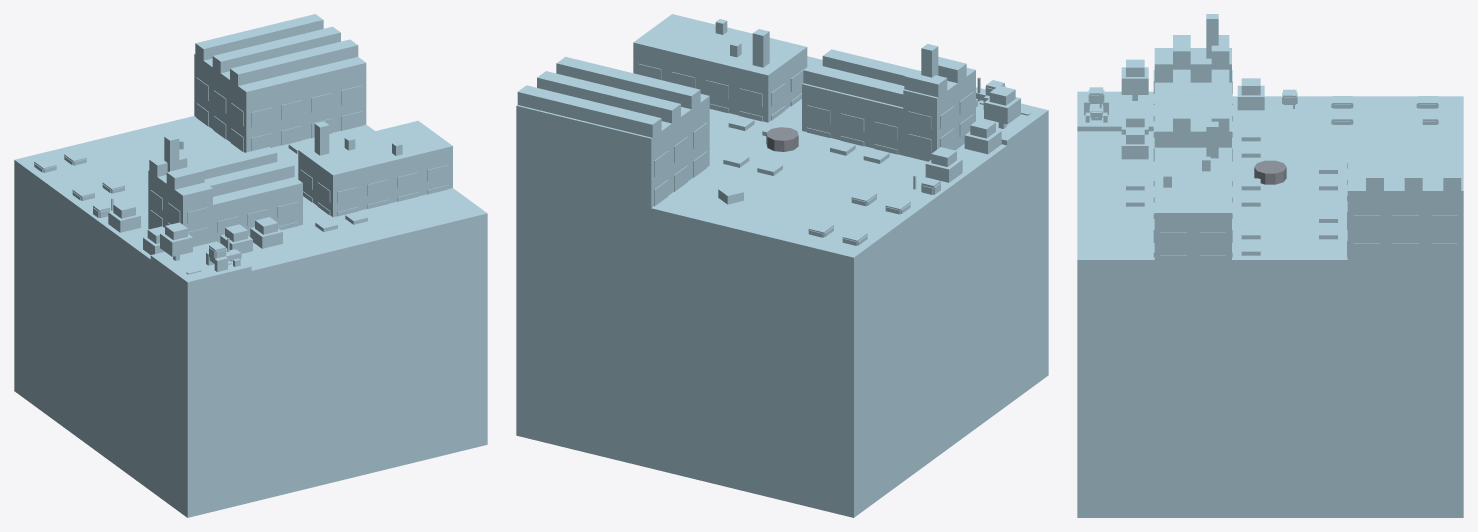
The model's file is block_13_undergroundtanks_100.glb.
3 renders of one model, left to right at view 1: azimuth 30°, elevation 25°; view 2: azimuth 150°, elevation 25°; view 3: azimuth 270°, elevation 25°, orthographic. The views are drawn at different scales.
Visible parts, largest first — view 1: Patch_LowerLeft_b13_UT, Factories_LowerLeft_b13_UT, Roads_LowerLeft_b13_UT, Ground_LowerLeft_b13_UT, Asset_Tree_Round.111_UT, Asset_Tree_Round.093_UT, Asset_Tree_Round.113_UT, Asset_Tractor.006_UT, Asset_Tree_Round.112_UT; view 2: Patch_LowerLeft_b13_UT, Factories_LowerLeft_b13_UT, Parking_LowerLeft_b13_UT, Asset_Tree_Round.111_UT, Ground_LowerLeft_b13_UT, Asset_Tree_Round.105_UT, Asset_Tree_Round.093_UT, UT_TankUnit_13, Roads_LowerLeft_b13_UT; view 3: Patch_LowerLeft_b13_UT, Factories_LowerLeft_b13_UT, Ground_LowerLeft_b13_UT, Roads_LowerLeft_b13_UT, Asset_Tree_Round.111_UT, Asset_Tree_Round.093_UT, Asset_Tree_Round.113_UT, Asset_Tractor.006_UT, UT_TankUnit_13, Asset_Tree_Round.112_UT.
Part boxes in pixels (x1,y1,x2,y2): Patch_LowerLeft_b13_UT: (14, 116, 487, 517); Factories_LowerLeft_b13_UT: (148, 14, 452, 246); Roads_LowerLeft_b13_UT: (83, 223, 487, 290); Ground_LowerLeft_b13_UT: (101, 236, 227, 276); Asset_Tree_Round.111_UT: (160, 222, 192, 260); Asset_Tree_Round.093_UT: (108, 201, 140, 232); Asset_Tree_Round.113_UT: (250, 217, 282, 248); Asset_Tractor.006_UT: (206, 238, 241, 271); Asset_Tree_Round.112_UT: (220, 224, 252, 253); Patch_LowerLeft_b13_UT: (516, 56, 1048, 517); Factories_LowerLeft_b13_UT: (516, 14, 975, 248); Parking_LowerLeft_b13_UT: (718, 215, 931, 278); Asset_Tree_Round.111_UT: (984, 85, 1020, 128); Ground_LowerLeft_b13_UT: (651, 111, 1029, 261); Asset_Tree_Round.105_UT: (964, 118, 1001, 154); Asset_Tree_Round.093_UT: (925, 147, 962, 182); UT_TankUnit_13: (766, 127, 798, 151); Roads_LowerLeft_b13_UT: (931, 100, 1048, 218); Patch_LowerLeft_b13_UT: (1077, 96, 1463, 517); Factories_LowerLeft_b13_UT: (1153, 14, 1463, 300); Ground_LowerLeft_b13_UT: (1116, 91, 1347, 315); Roads_LowerLeft_b13_UT: (1077, 91, 1308, 315); Asset_Tree_Round.111_UT: (1121, 59, 1148, 100); Asset_Tree_Round.093_UT: (1237, 78, 1264, 110); Asset_Tree_Round.113_UT: (1121, 127, 1148, 159); Asset_Tractor.006_UT: (1084, 87, 1108, 122); UT_TankUnit_13: (1254, 160, 1286, 184); Asset_Tree_Round.112_UT: (1121, 111, 1148, 134).
Size of the model in its own units: 9.52 by 9.83 by 9.5.
